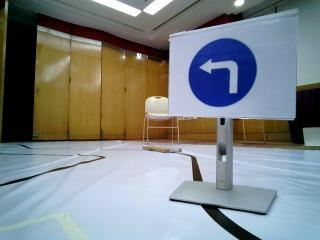left: (176, 26, 293, 114)
